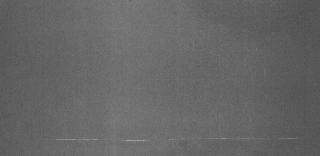scratches: (50, 120, 310, 146)
